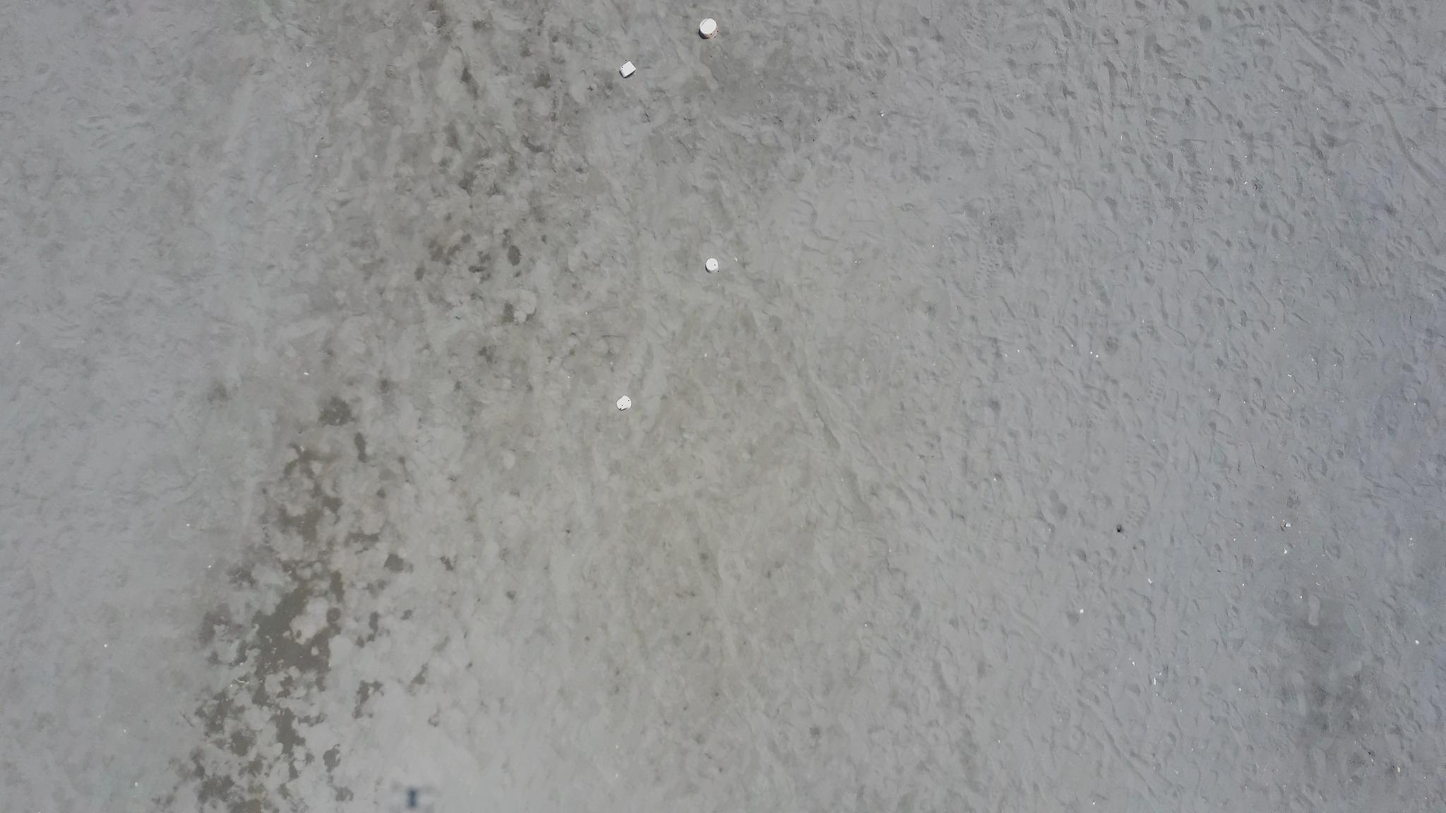Garbage: (699, 18, 717, 38), (619, 61, 635, 77), (705, 257, 718, 272), (616, 397, 630, 409)
